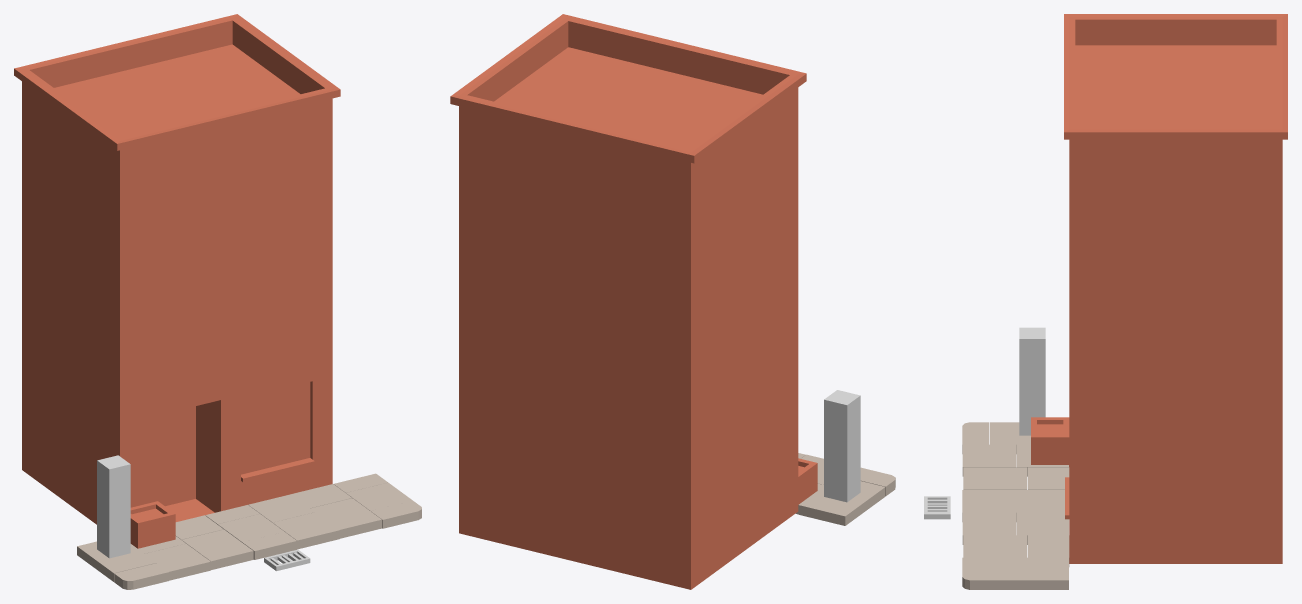
Rendered from diorama.glb.
3 renders of one model, left to right at view 1: azimuth 30°, elevation 25°; view 2: azimuth 150°, elevation 25°; view 3: azimuth 270°, elevation 25°, orthographic. The views are drawn at different scales.
Parts seen in each view (by area): view 1: House, Scale, SidewalkStone.007, SidewalkStone.019, SidewalkStone.002, SidewalkStone.022, SidewalkStone.028, SidewalkStone.004, SidewalkStone.013, SidewalkStone.017, SidewalkStone.024, SidewalkStone.015 (+10 smaller); view 2: House, Scale, SidewalkStone.026; view 3: House, Scale, SidewalkStone.022, SidewalkStone.007, SidewalkStone.019, SidewalkStone.002, SidewalkStone.015, SidewalkStone.011, SidewalkStone.003, SidewalkStone.024, SidewalkStone.010, SidewalkStone.014 (+9 smaller).
Boxes of the visible parts, left/top/right/bottom form: House: left=14, top=14, right=340, bottom=548; Scale: left=97, top=455, right=130, bottom=558; SidewalkStone.007: left=273, top=512, right=339, bottom=549; SidewalkStone.019: left=144, top=543, right=210, bottom=580; SidewalkStone.002: left=217, top=514, right=284, bottom=542; SidewalkStone.022: left=346, top=482, right=412, bottom=510; SidewalkStone.028: left=114, top=563, right=168, bottom=589; SidewalkStone.004: left=242, top=532, right=297, bottom=559; SidewalkStone.013: left=199, top=542, right=253, bottom=569; SidewalkStone.017: left=327, top=510, right=381, bottom=538; SidewalkStone.024: left=371, top=500, right=421, bottom=528; SidewalkStone.015: left=291, top=484, right=351, bottom=508; House: left=450, top=14, right=817, bottom=589; Scale: left=824, top=390, right=860, bottom=502; SidewalkStone.026: left=799, top=487, right=871, bottom=525; House: left=1031, top=14, right=1287, bottom=563; Scale: left=1019, top=327, right=1045, bottom=435; SidewalkStone.022: left=989, top=557, right=1042, bottom=589; SidewalkStone.007: left=962, top=512, right=1015, bottom=544; SidewalkStone.019: left=962, top=444, right=1015, bottom=476; SidewalkStone.002: left=989, top=490, right=1042, bottom=521; SidewalkStone.015: left=1027, top=535, right=1069, bottom=566; SidewalkStone.011: left=1027, top=467, right=1069, bottom=489; SidewalkStone.003: left=1042, top=557, right=1068, bottom=589; SidewalkStone.024: left=962, top=557, right=988, bottom=589; SidewalkStone.010: left=989, top=467, right=1026, bottom=489; SidewalkStone.014: left=989, top=535, right=1026, bottom=557.
Size of what is drawn, in the model's own units: 7.02 by 9.07 by 6.83.
